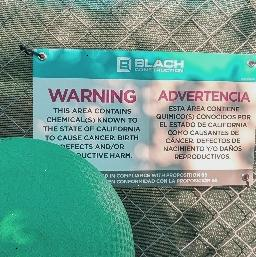algae: (0, 135, 133, 257)
